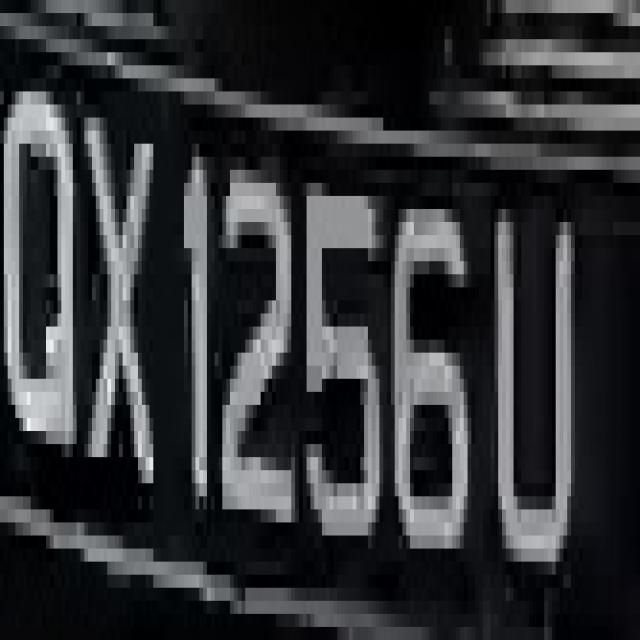1: (180, 118, 215, 536)
2: (222, 117, 299, 548)
5: (303, 170, 383, 588)
6: (372, 157, 475, 627)
Q: (4, 39, 84, 510)
U: (479, 183, 583, 588)
X: (84, 65, 169, 522)
